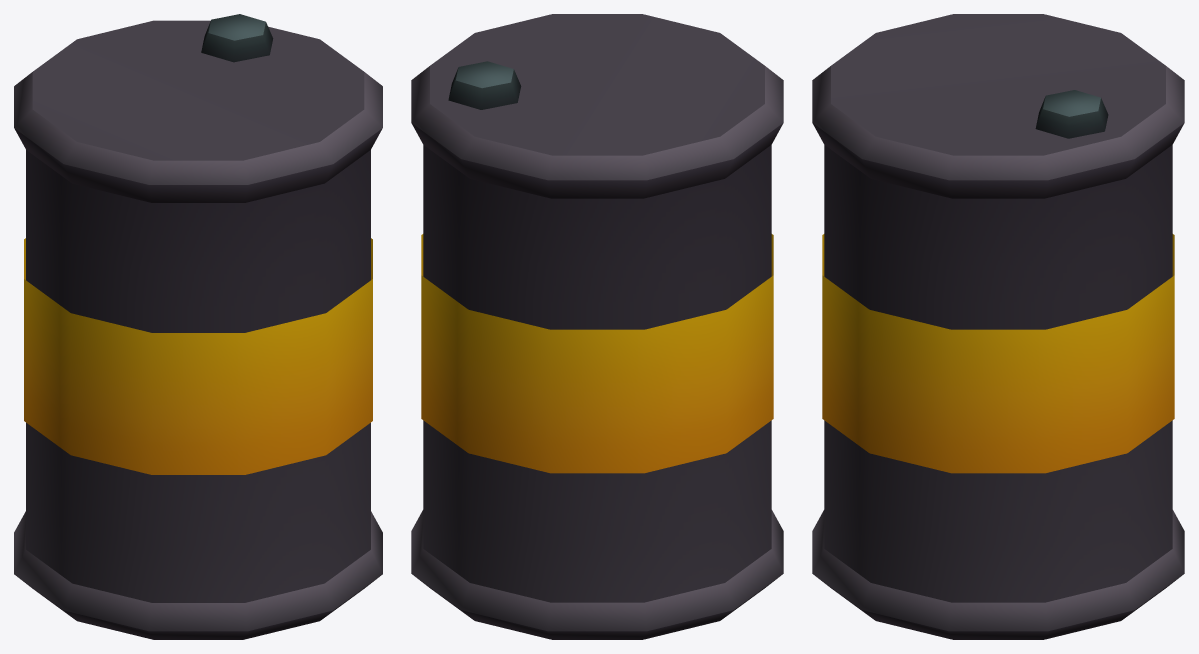
Rendered from Barrel_1C.fbx.
3 views of the same model, side by side, from view 1: azimuth 30°, elevation 25°; view 2: azimuth 150°, elevation 25°; view 3: azimuth 270°, elevation 25° (orthographic).
Visible parts, largest first — view 1: Barrel_1C; view 2: Barrel_1C; view 3: Barrel_1C.
Boxes of the visible parts, bbox=[...] form: Barrel_1C: bbox=[14, 14, 382, 639]; Barrel_1C: bbox=[411, 14, 783, 639]; Barrel_1C: bbox=[812, 14, 1184, 639].
Size of the model in its own units: 83.69 by 125 by 83.69.
